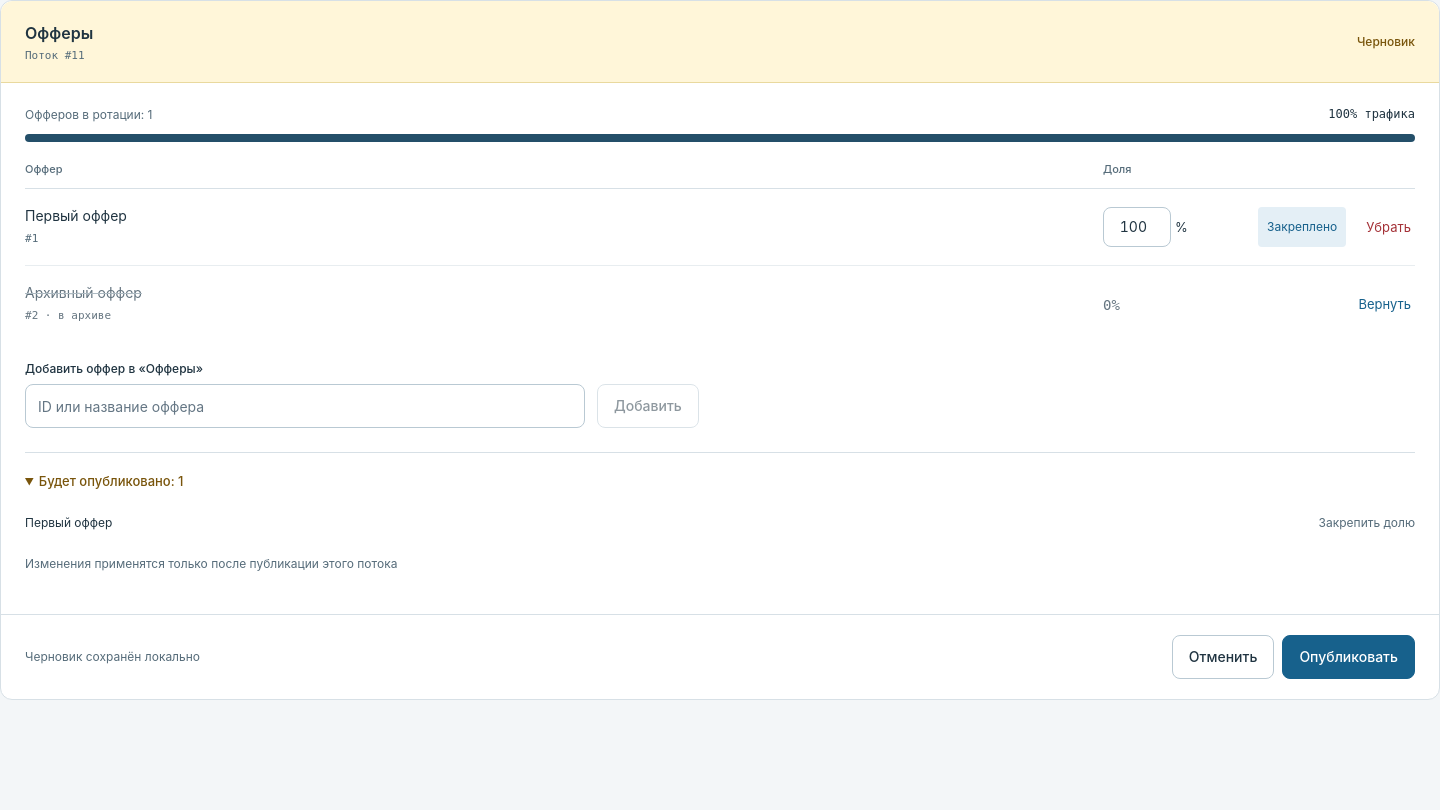
Test: stream editing controls › restores the confirmed weight after the backend rejects an allocation
The image size is (1440, 810).
Replace the text in the number field named "Доля оффера Первый оффер" with "25" at (1137, 227), box 1103,207 -> 1171,247
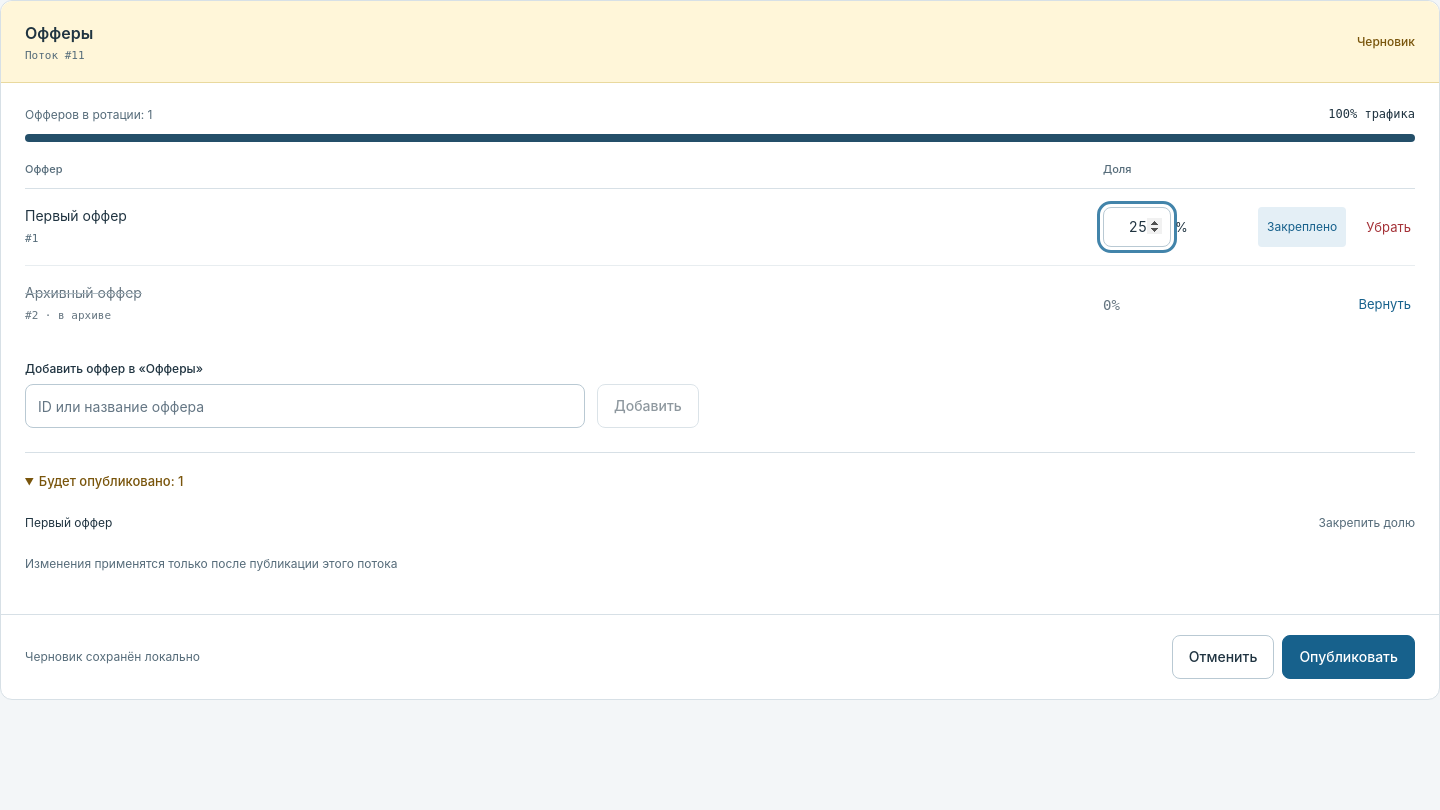
Press Tab
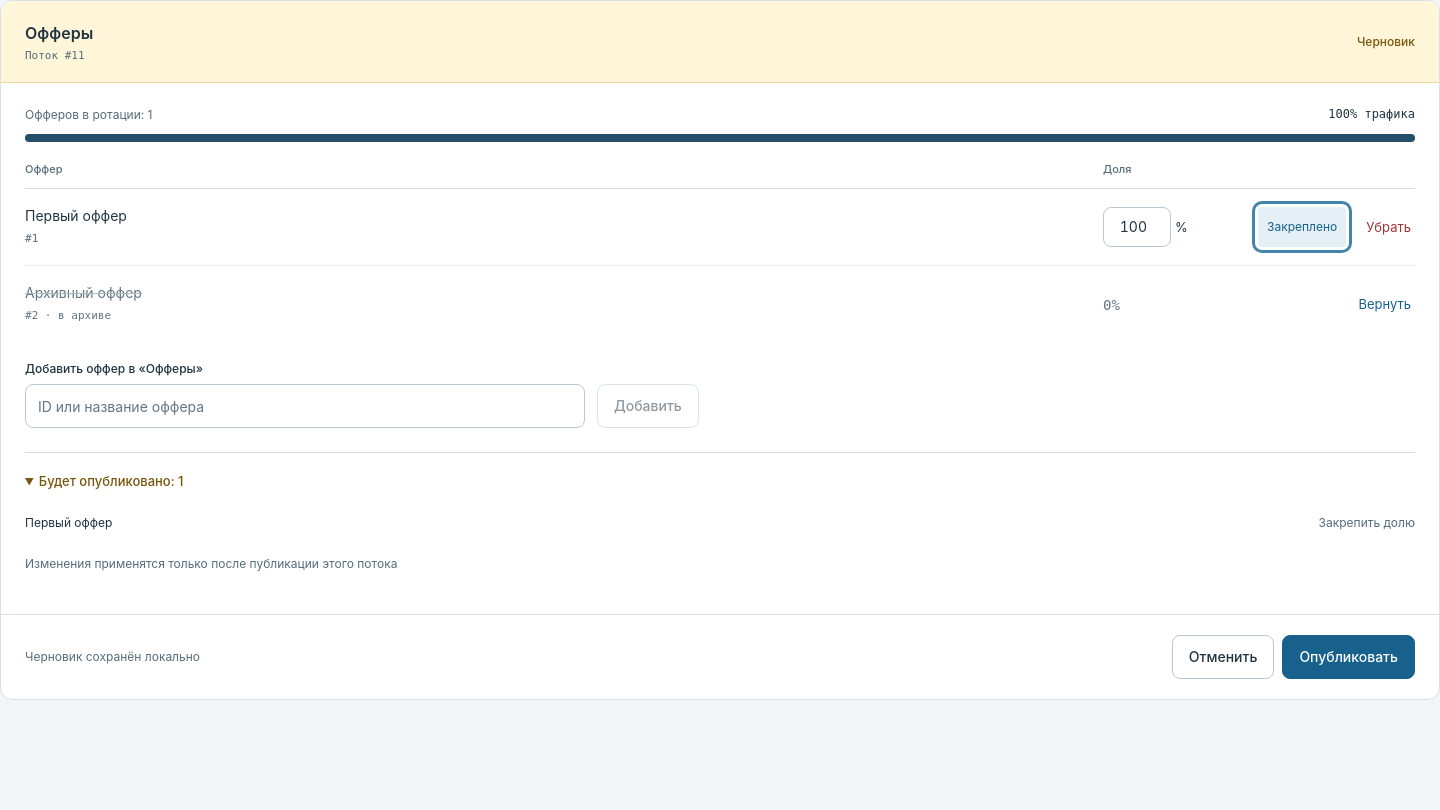
Check: the number field named "Доля оффера Первый оффер" holds "100", box 1103,207 -> 1171,247
